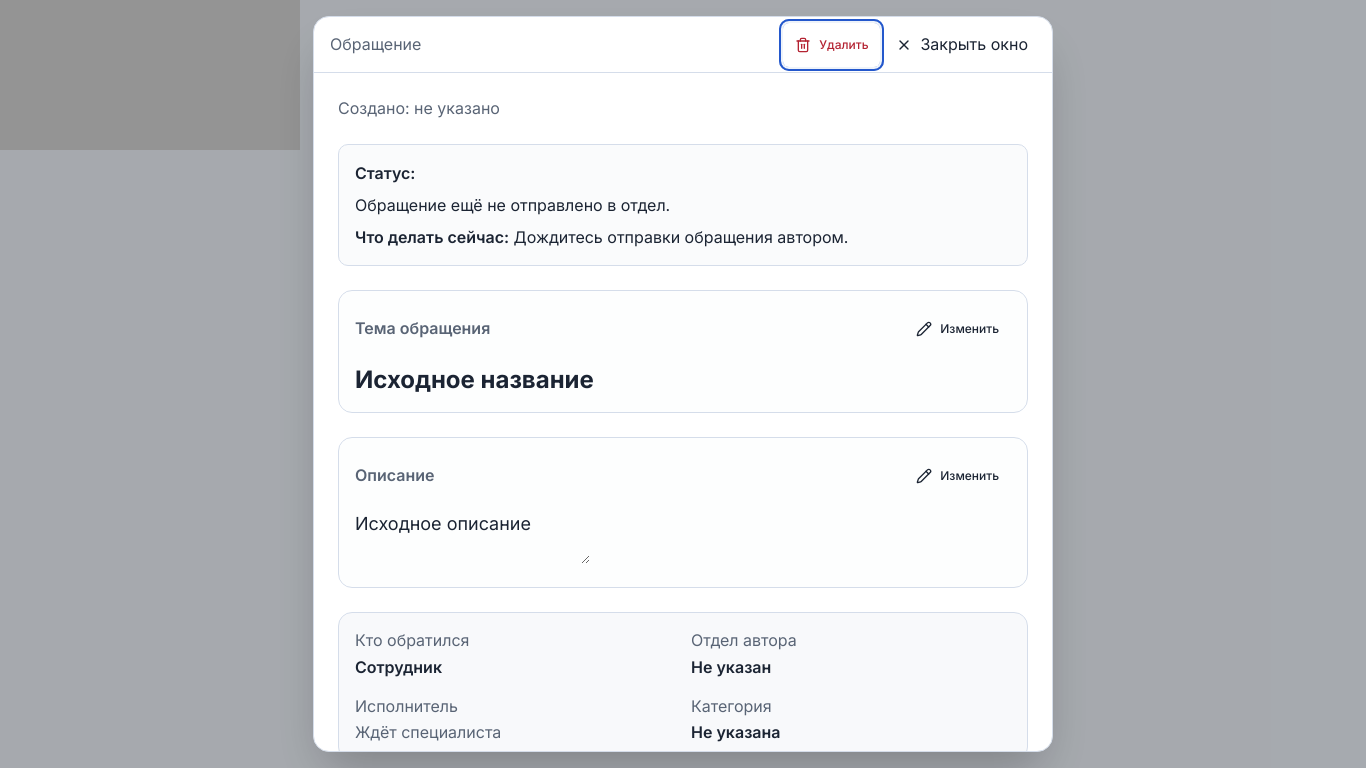
Test: preserves a dirty description and its original command baseline
Click the button with aria-label "Изменить описание": coordinates (958, 476) 904,454 -> 1011,498
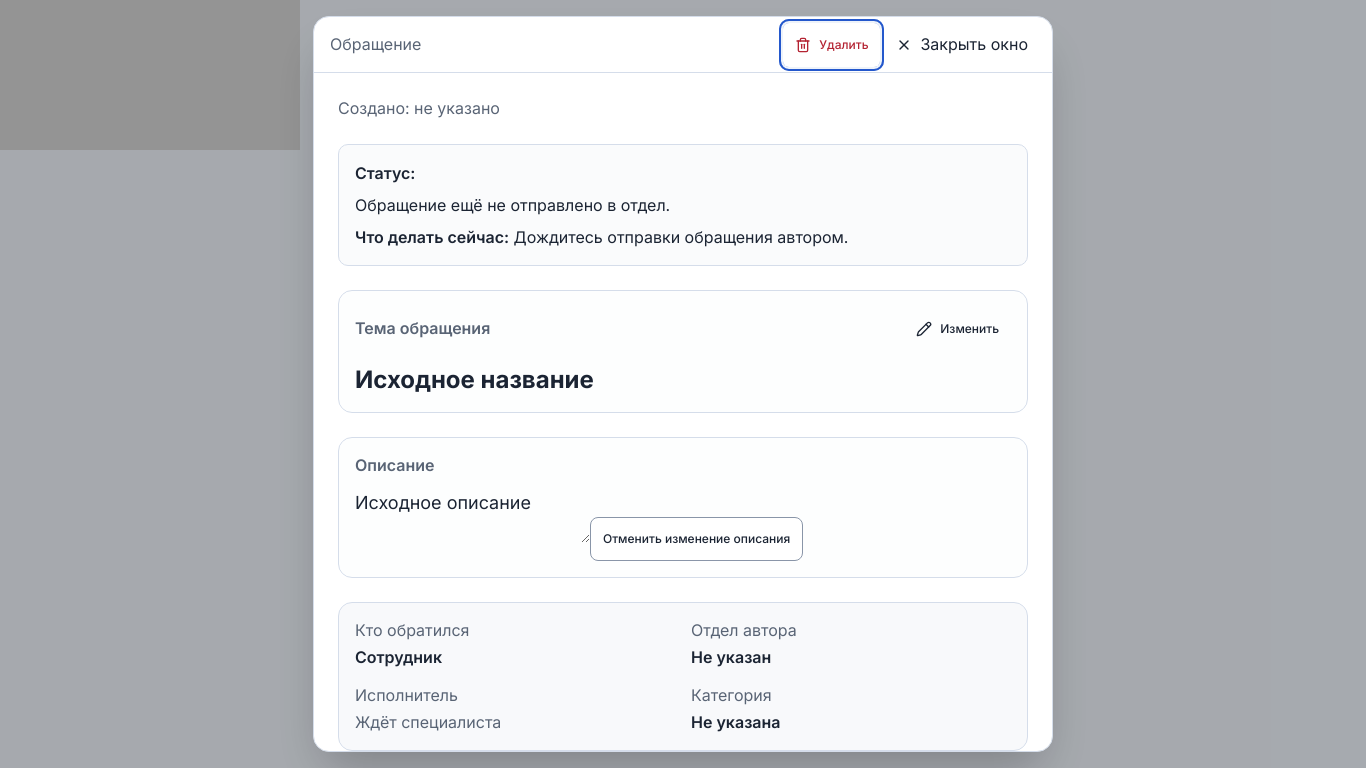
Replace the text in the text box named "Описание проверки" with "Несохранённый текст": coordinates (472, 516) 355,489 -> 590,543
Wait 1200 ms
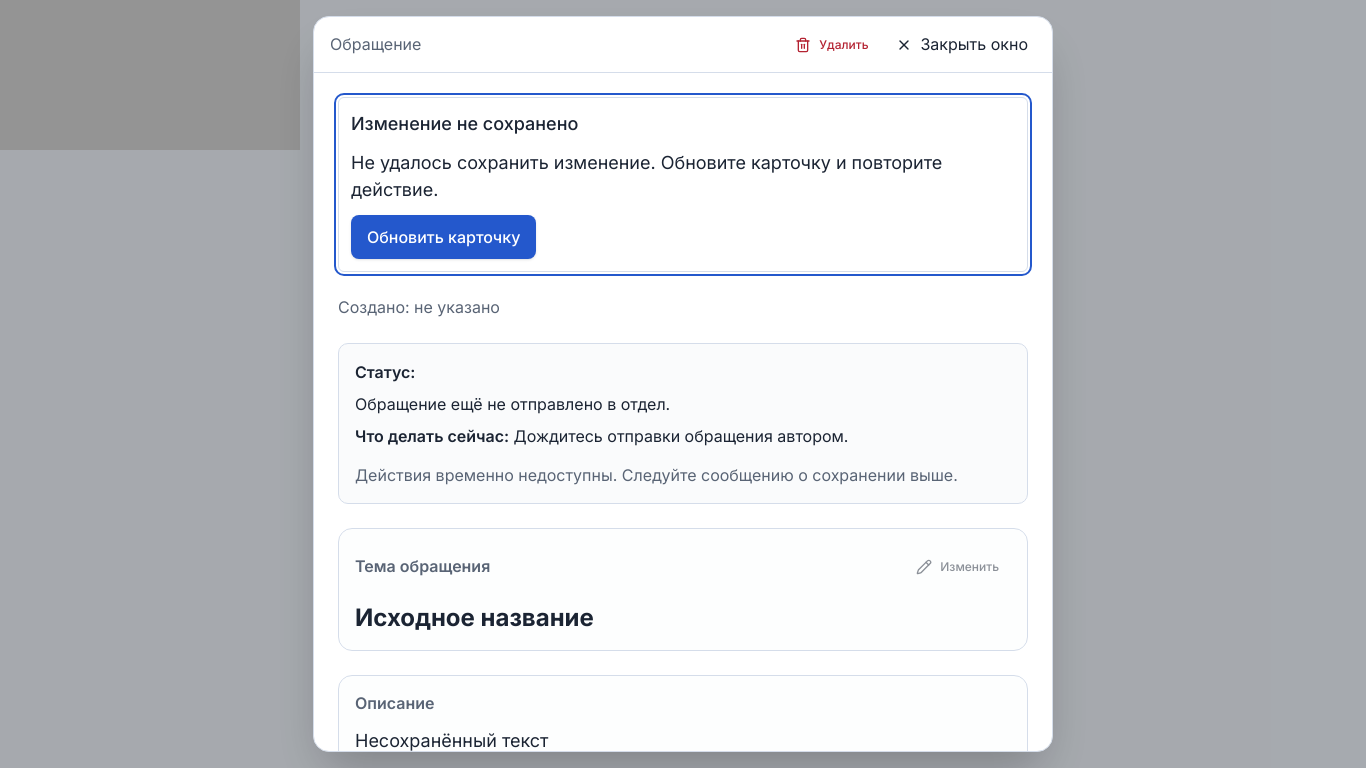
Result: the button "Обновить карточку" is shown at 351,215 -> 536,259
